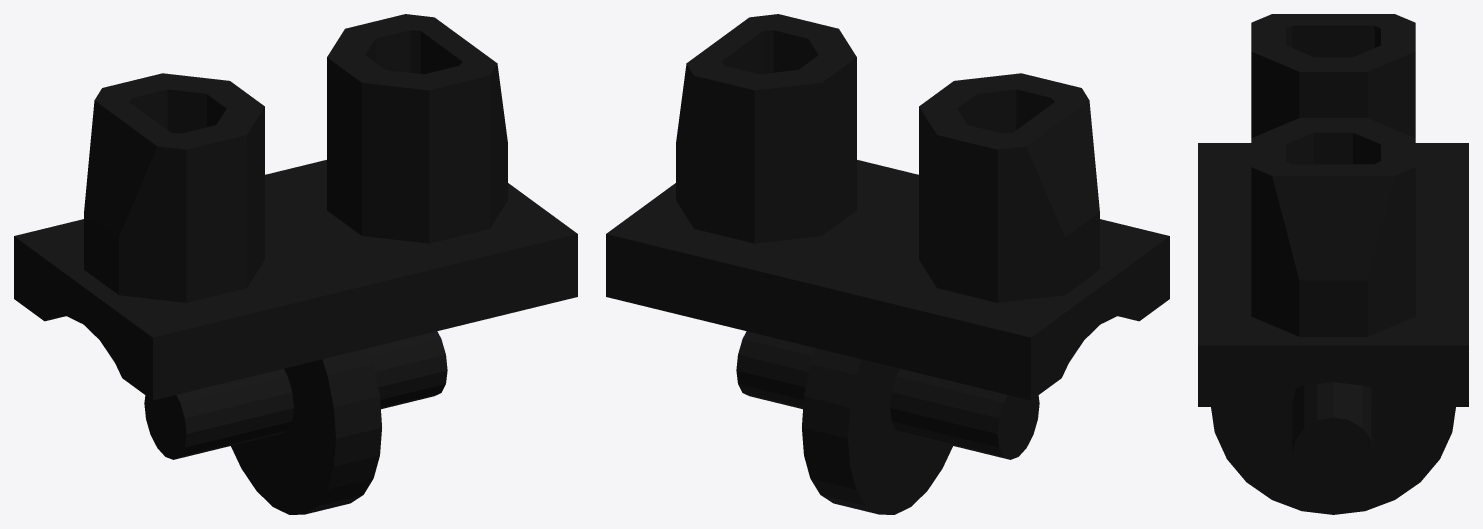
Rendered from BatmanCadera.obj.
3 renders of one model, left to right at view 1: azimuth 30°, elevation 25°; view 2: azimuth 150°, elevation 25°; view 3: azimuth 270°, elevation 25°, orthographic. The views are drawn at different scales.
Visible parts, largest first — view 1: Part_5; view 2: Part_5; view 3: Part_5.
Part boxes in pixels (x1=…): Part_5: x1=14, y1=14, x2=577, y2=514; Part_5: x1=606, y1=14, x2=1169, y2=514; Part_5: x1=1198, y1=14, x2=1468, y2=514.
Size of the model in its own units: 14 by 13.2 by 7.92.
